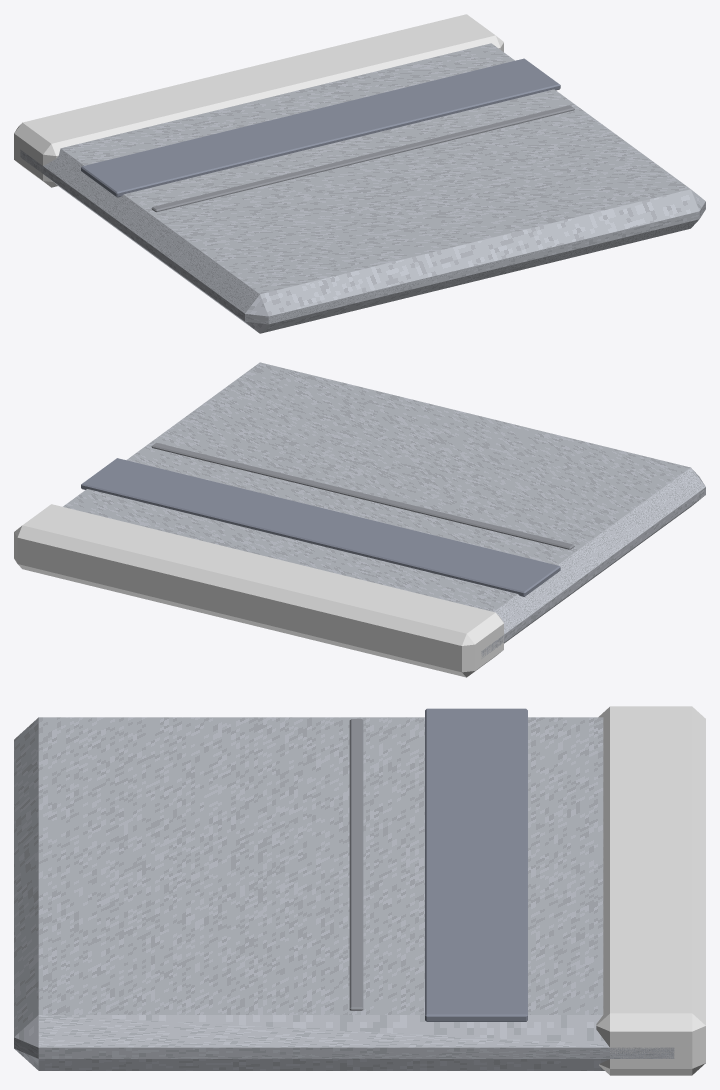
The model's file is boxer_shorts.glb.
3 renders of one model, top to bottom at view 1: azimuth 30°, elevation 25°; view 2: azimuth 150°, elevation 25°; view 3: azimuth 270°, elevation 25°, orthographic. The views are drawn at different scales.
Parts seen in each view (by area): view 1: block_body, block_waist, block_stripe, block_fold; view 2: block_body, block_waist, block_stripe, block_fold; view 3: block_body, block_waist, block_stripe, block_fold.
Part boxes in pixels (<box>): block_body: <box>20,43,705,333</box>; block_waist: <box>14,14,503,187</box>; block_stripe: <box>81,58,560,197</box>; block_fold: <box>151,105,574,212</box>; block_body: <box>63,362,705,658</box>; block_waist: <box>14,504,503,677</box>; block_stripe: <box>81,458,560,596</box>; block_fold: <box>151,442,574,549</box>; block_body: <box>14,717,674,1070</box>; block_waist: <box>596,706,705,1075</box>; block_stripe: <box>425,708,527,1021</box>; block_fold: <box>349,719,363,1010</box>.
Size of the model in its own units: 0.22 by 0.02 by 0.202.
1 material, 1 textured.
